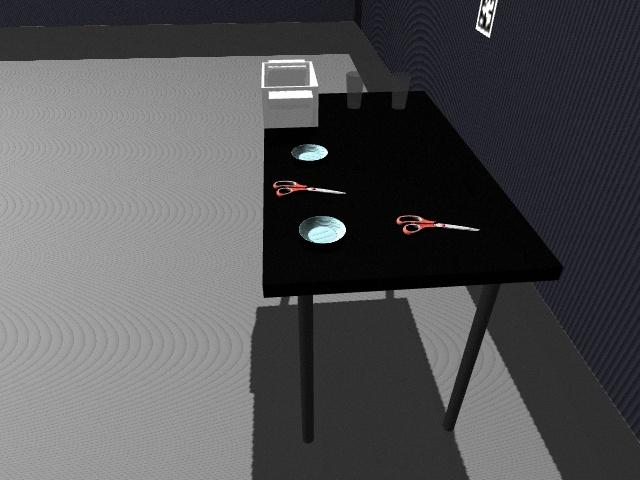cup: (390, 74, 410, 111), (346, 70, 363, 110)
plate: (297, 214, 347, 245), (290, 144, 329, 163)
scissors: (397, 214, 478, 235), (273, 180, 344, 197)
